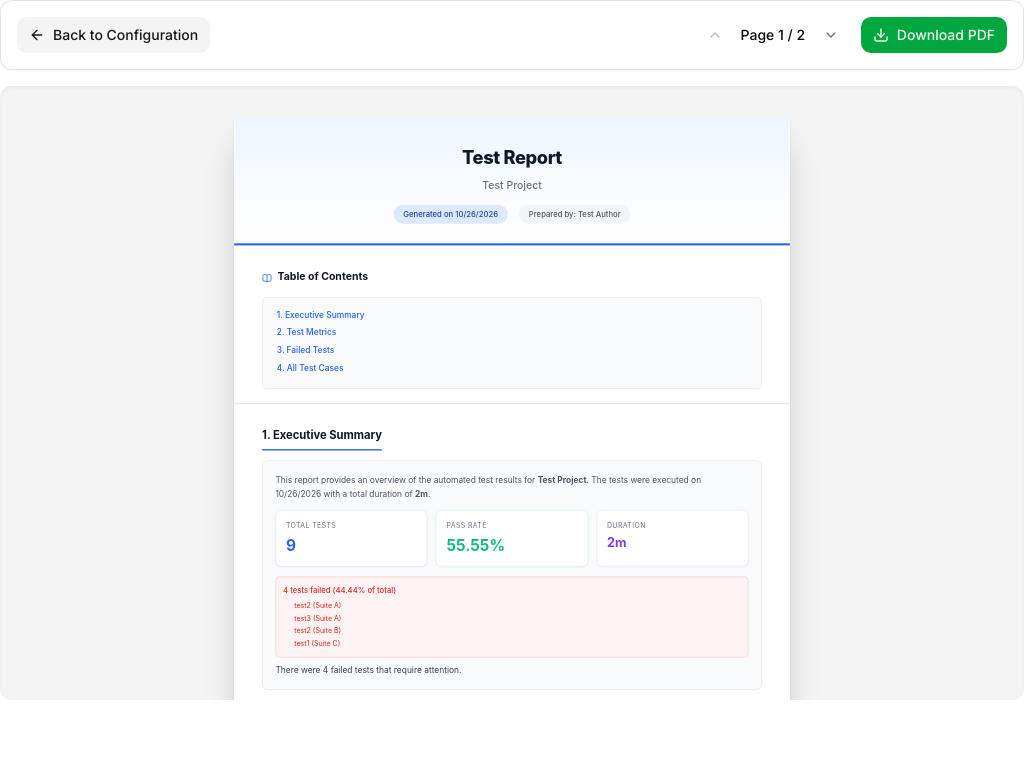
it: ReportPreview › should show error message when PDF generation fails
Click the button "Download PDF": (934, 35) [861, 17, 1007, 53]
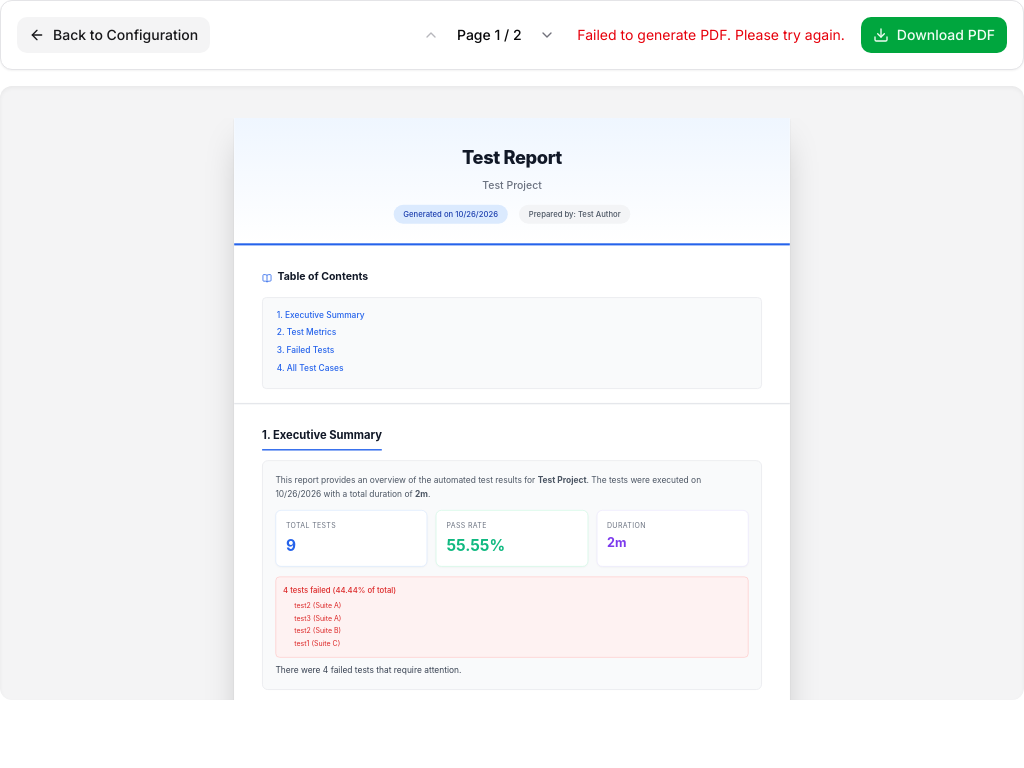
Check: the text "Failed to generate PDF. Please try again." is shown, box [577, 25, 845, 45]
